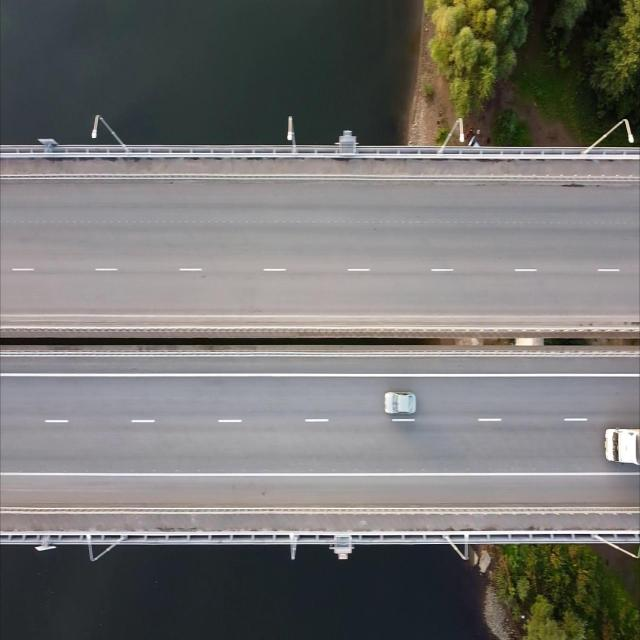Car: (384, 388, 417, 416)
Van: (605, 426, 640, 467)
